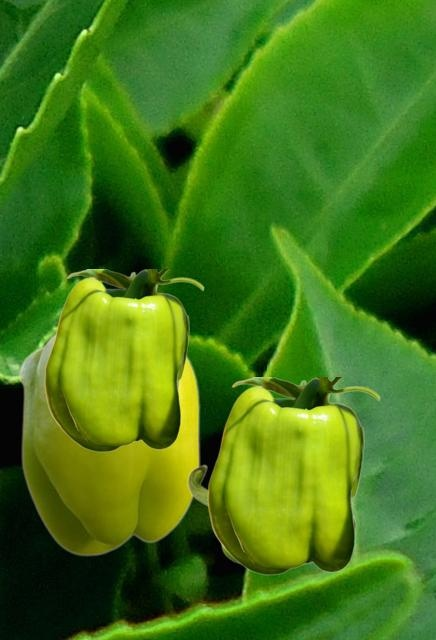bell_pepper: (18, 332, 199, 555), (207, 377, 379, 574), (44, 269, 203, 451), (187, 464, 355, 565)
